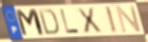D: (37, 8, 60, 36)
I: (104, 5, 119, 35)
L: (59, 9, 81, 35)
M: (14, 8, 47, 39)
N: (115, 4, 143, 34)
X: (76, 7, 104, 34)
